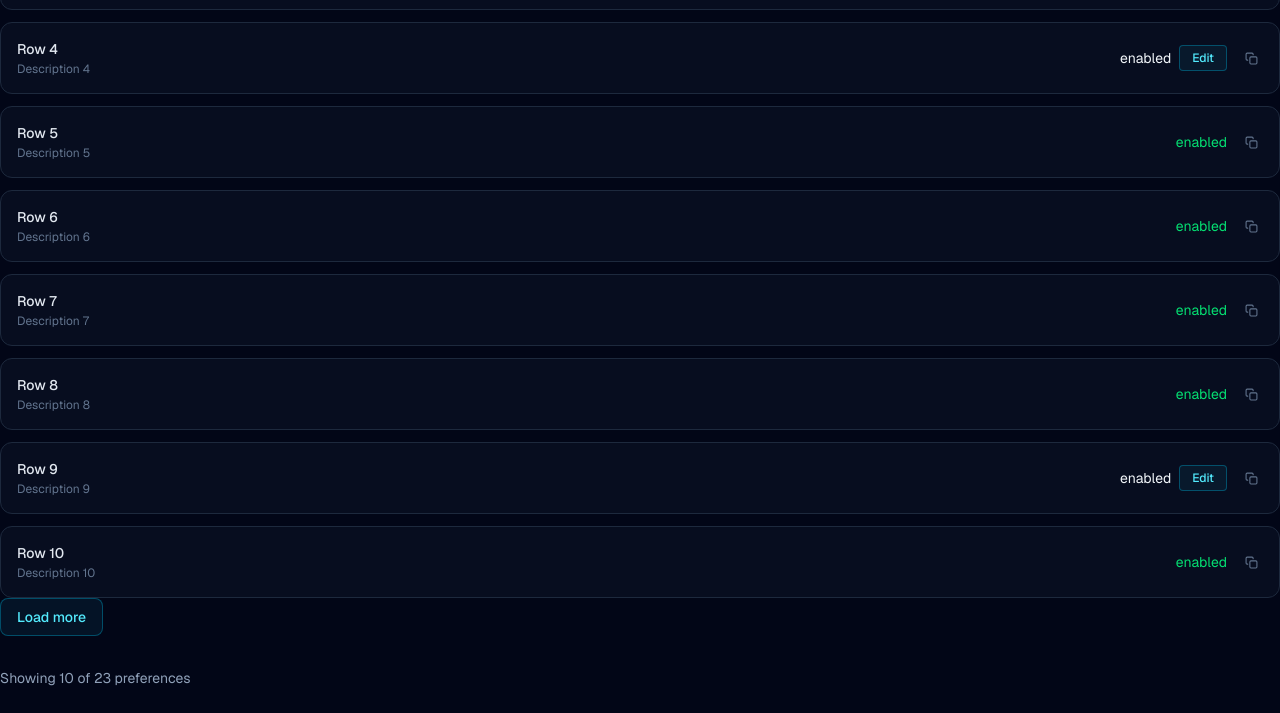
Test: SettingsPage – end-of-list behavior › reveals only the partial remainder when the final page is short
(page scrolled)
What coordinates should you click on to do the following:
click the button with test id "settings-load-more"
I would click on:
 (52, 617)
Its box is [0,598,103,636].
(page scrolled)
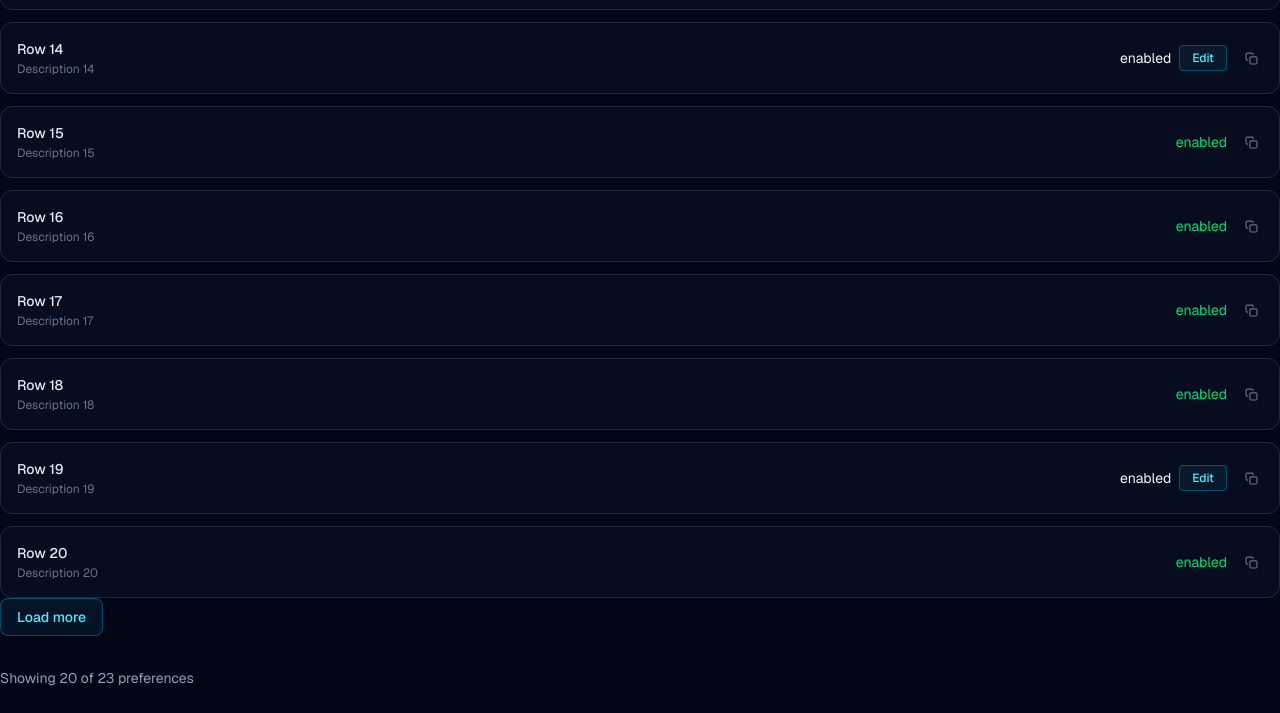
What coordinates should you click on to do the following:
click the button with test id "settings-load-more"
I would click on:
 (52, 617)
Its box is [0,598,103,636].
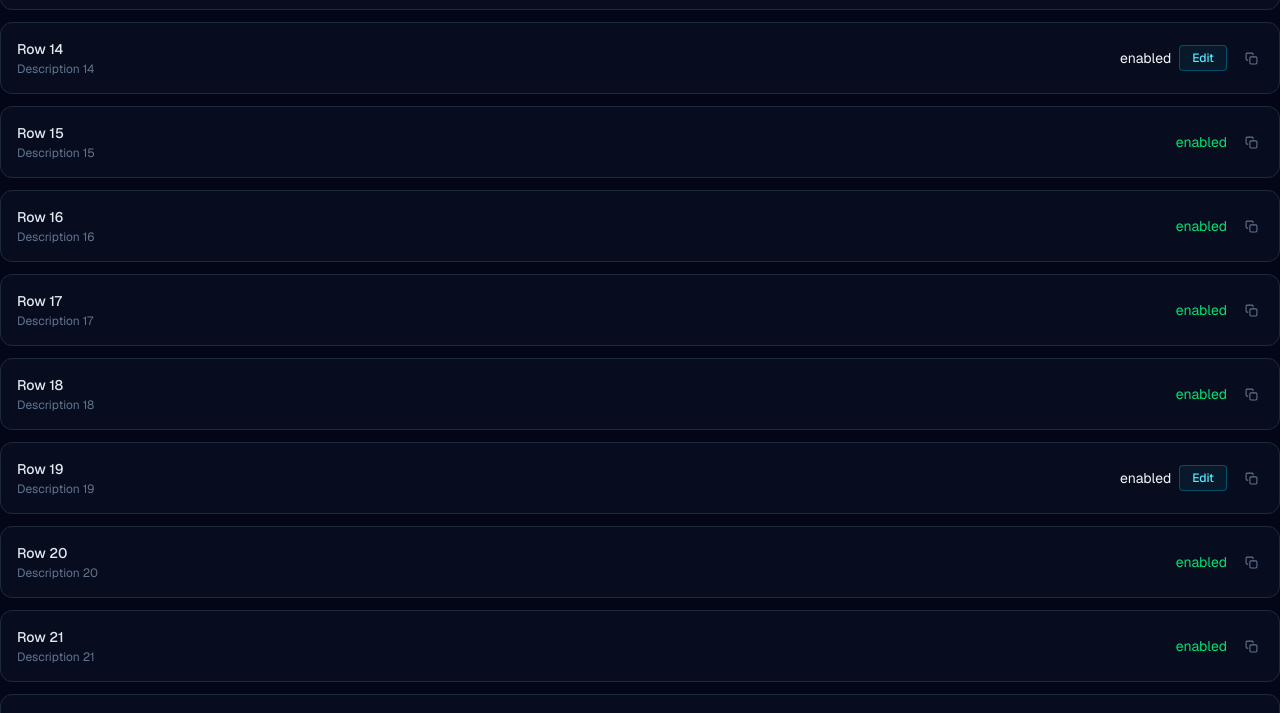
Expected: the button with test id "settings-load-more" is gone
